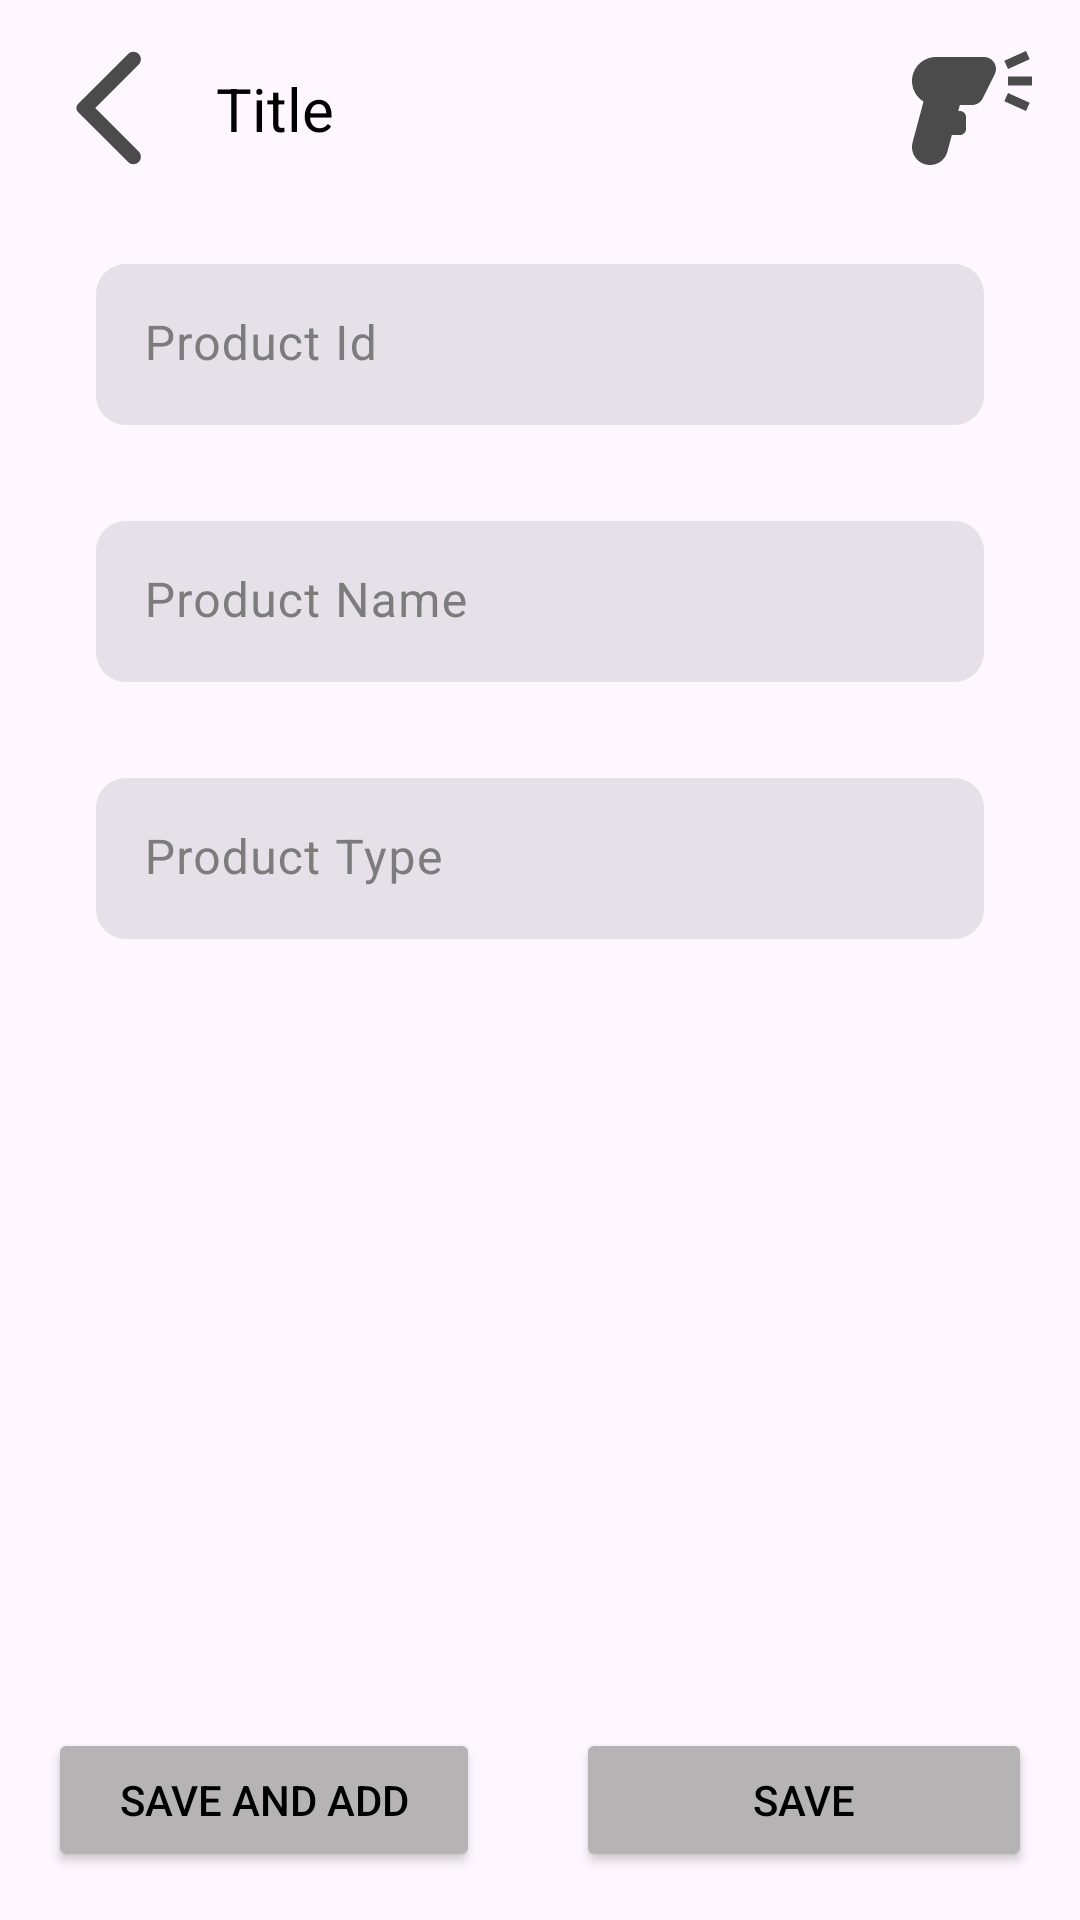

Named icons in this screenshot (1080px×1920px) and their centers, (x,y):
back: (108,108)
barcode reader: (972,108)
